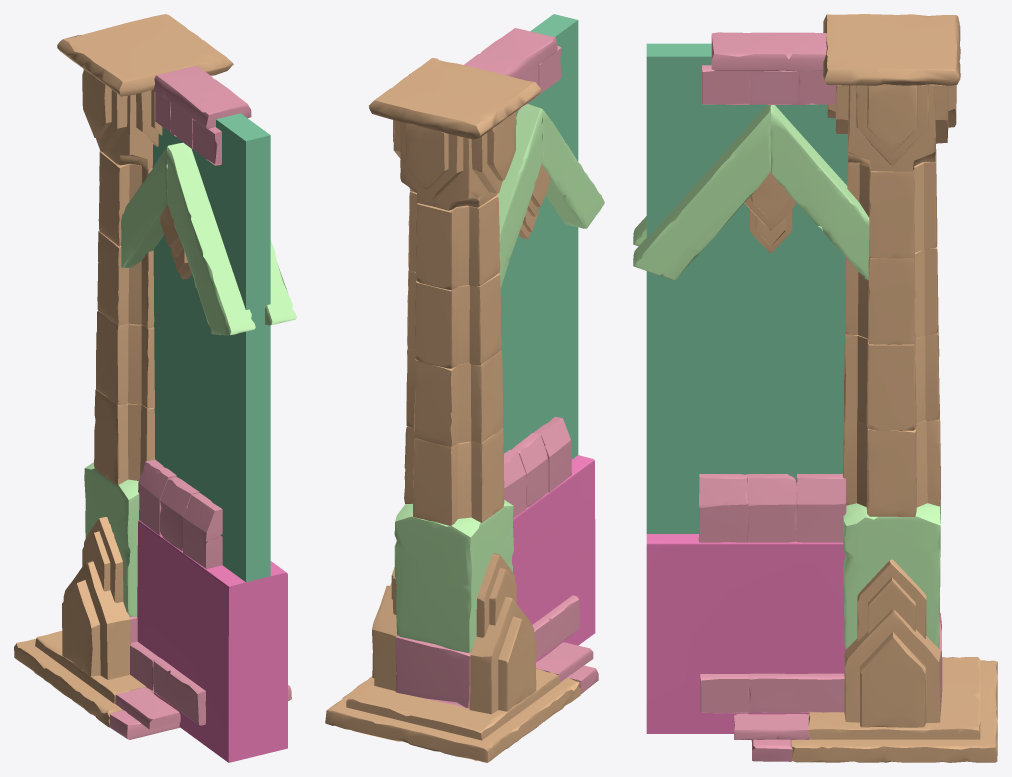
File: Column_base_07_medium_line_01.fbx
3 renders of one model, left to right at view 1: azimuth 30°, elevation 25°; view 2: azimuth 150°, elevation 25°; view 3: azimuth 270°, elevation 25°, orthographic. The views are drawn at different scales.
Visible parts, largest first — view 1: Column_base_07_medium_line_01_LOD0; view 2: Column_base_07_medium_line_01_LOD0; view 3: Column_base_07_medium_line_01_LOD0.
Boxes of the visible parts, x1,y1,x2,y2 form: Column_base_07_medium_line_01_LOD0: [14, 14, 296, 762]; Column_base_07_medium_line_01_LOD0: [325, 14, 604, 762]; Column_base_07_medium_line_01_LOD0: [633, 14, 997, 762].
Size of what is drawn, in the model's own units: 269 by 974 by 474.
